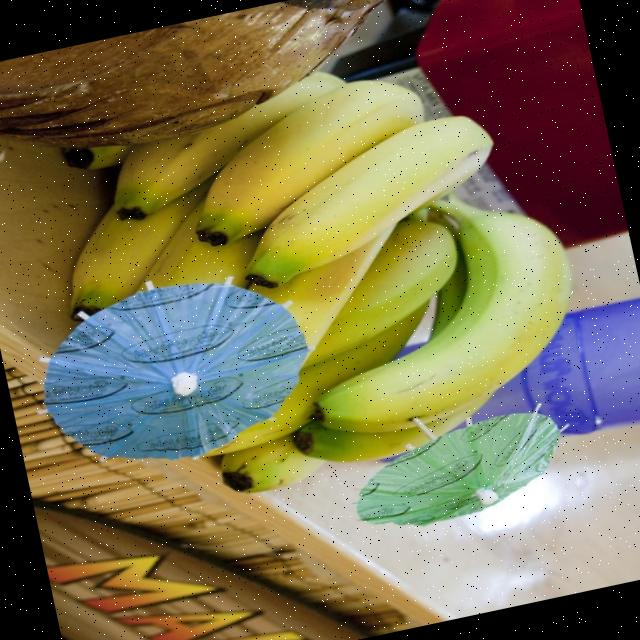banana: (313, 194, 571, 432), (245, 114, 491, 288), (193, 79, 445, 248)
